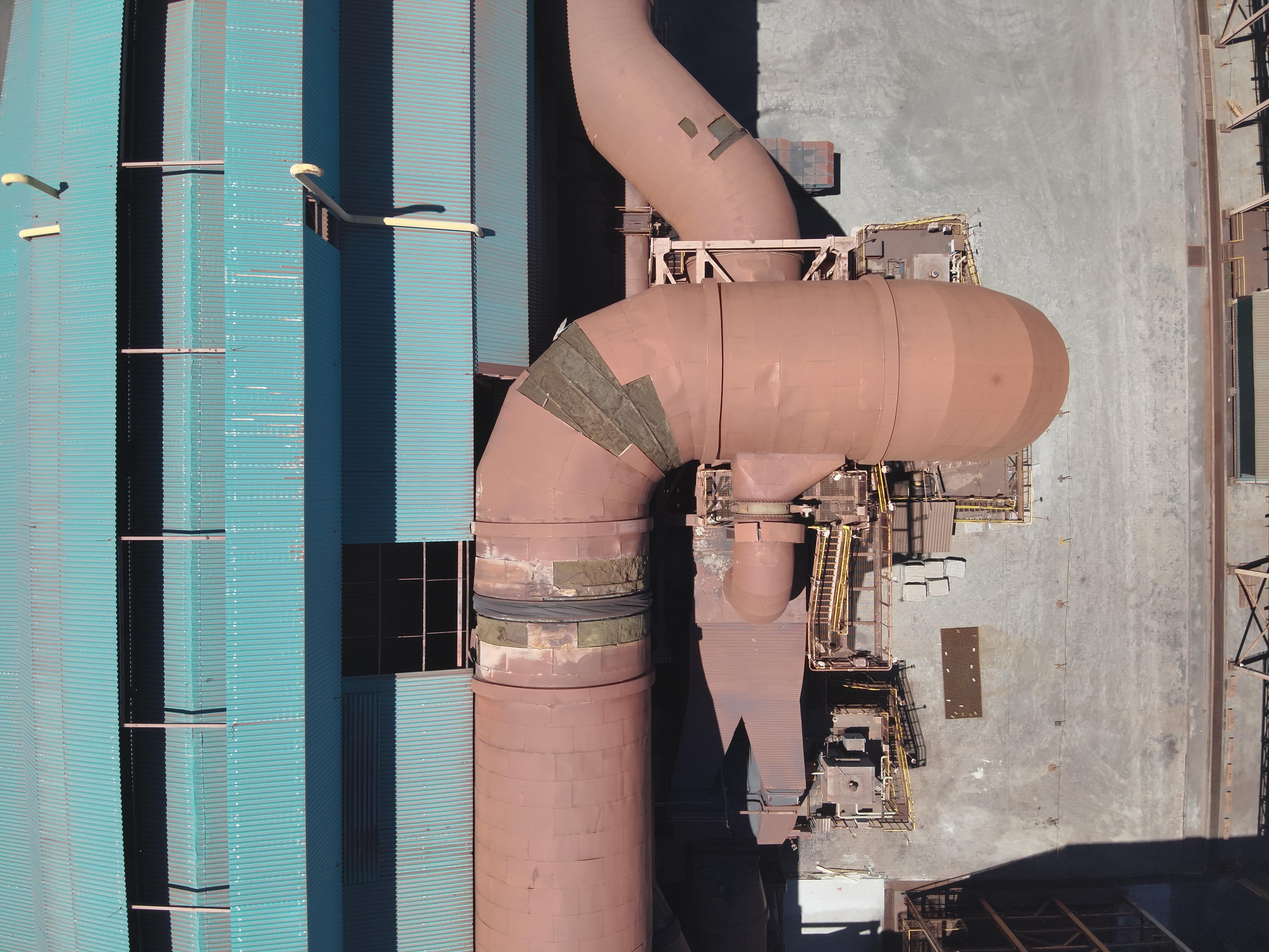Failures: (517, 322, 683, 479), (466, 545, 659, 670), (672, 92, 752, 165), (710, 510, 815, 559)
